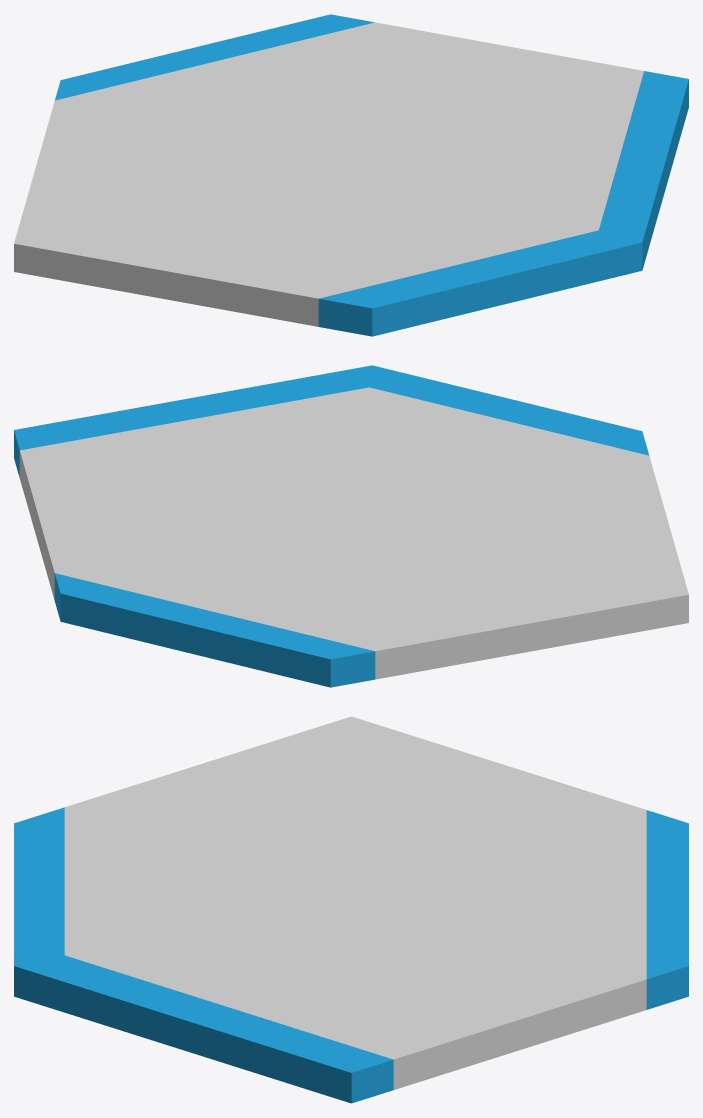
3 views of the same model, one above another, from view 1: azimuth 30°, elevation 25°; view 2: azimuth 150°, elevation 25°; view 3: azimuth 270°, elevation 25° (orthographic). The views are drawn at different scales.
Parts seen in each view (by area): view 1: Hexagon, S.001, SE.001, N; view 2: Hexagon, N, SE.001, S.001; view 3: Hexagon, SE.001, N, S.001.
Boxes of the visible parts, x1,y1,x2,y2 form: Hexagon: (14,22,643,326); S.001: (318,230,642,336); SE.001: (599,71,688,269); N: (55,14,374,100); Hexagon: (19,387,688,679); N: (54,573,375,687); SE.001: (14,365,372,477); S.001: (369,365,649,455); Hexagon: (64,716,646,1089); SE.001: (14,955,393,1103); N: (646,810,688,1009); S.001: (14,807,64,965).
Bounding box in the file's own units: 5 × 4 × 0.2.
